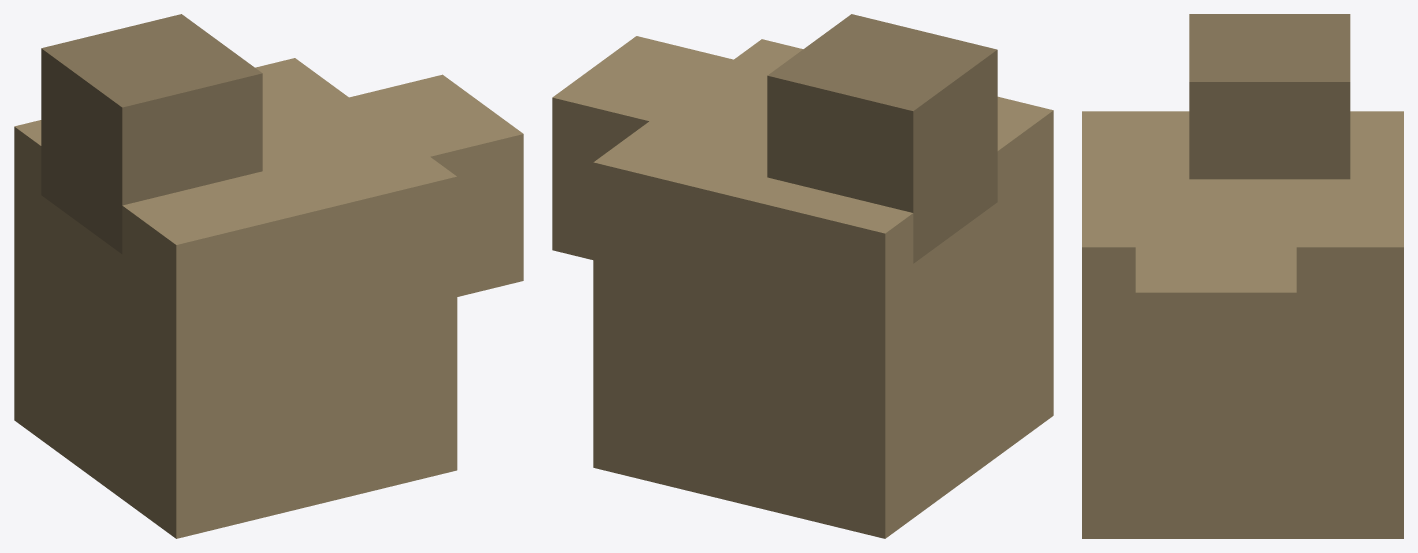
The model's file is regadera_bronce_01.glb.
3 renders of one model, left to right at view 1: azimuth 30°, elevation 25°; view 2: azimuth 150°, elevation 25°; view 3: azimuth 270°, elevation 25°, orthographic. The views are drawn at different scales.
Parts seen in each view (by area): view 1: regadera_bronce; view 2: regadera_bronce; view 3: regadera_bronce.
Part boxes in pixels (left/top/right/bottom): regadera_bronce: left=14, top=14, right=523, bottom=538; regadera_bronce: left=552, top=14, right=1053, bottom=538; regadera_bronce: left=1082, top=14, right=1403, bottom=538.
Size of the model in its own units: 0.5714 by 0.5714 by 0.4286.
